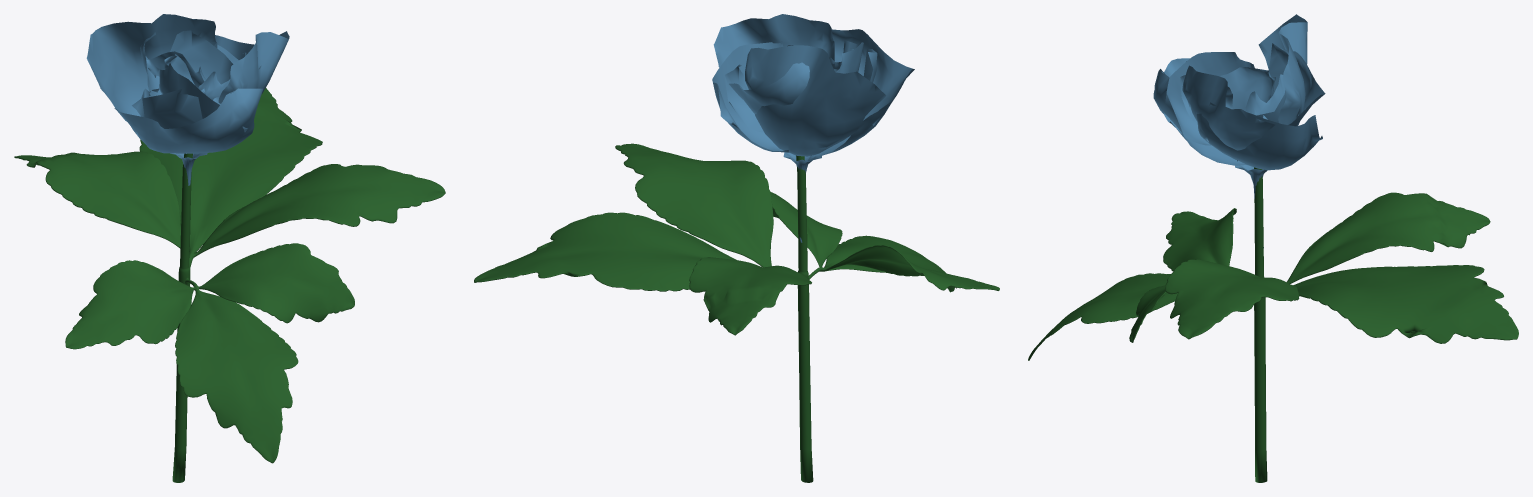
The model's file is peonybluecp.glb.
3 views of the same model, side by side, from view 1: azimuth 30°, elevation 25°; view 2: azimuth 150°, elevation 25°; view 3: azimuth 270°, elevation 25° (orthographic). The views are drawn at different scales.
Parts seen in each view (by area): view 1: maki.001; view 2: maki.001; view 3: maki.001.
Boxes of the visible parts, left/top/right/bottom form: maki.001: left=14, top=14, right=445, bottom=482; maki.001: left=474, top=14, right=999, bottom=482; maki.001: left=1028, top=14, right=1518, bottom=482.
Size of the model in its own units: 2.99 by 3.4 by 3.42.
